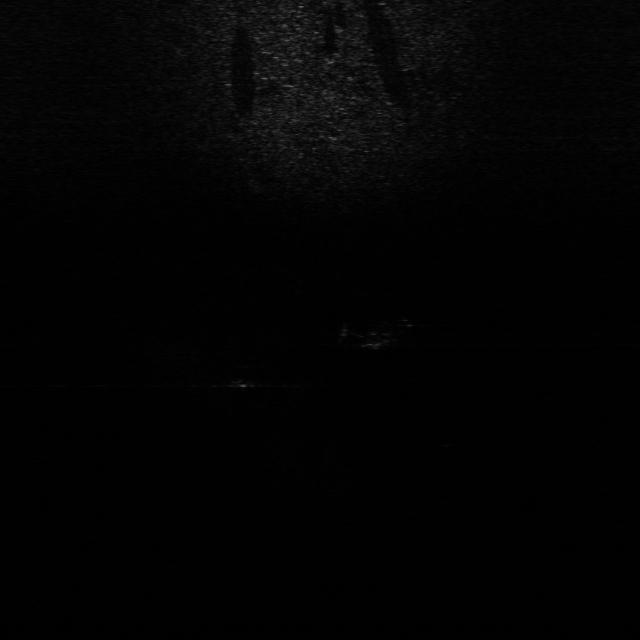ball: (223, 362, 264, 395)
human body: (338, 314, 426, 354)
